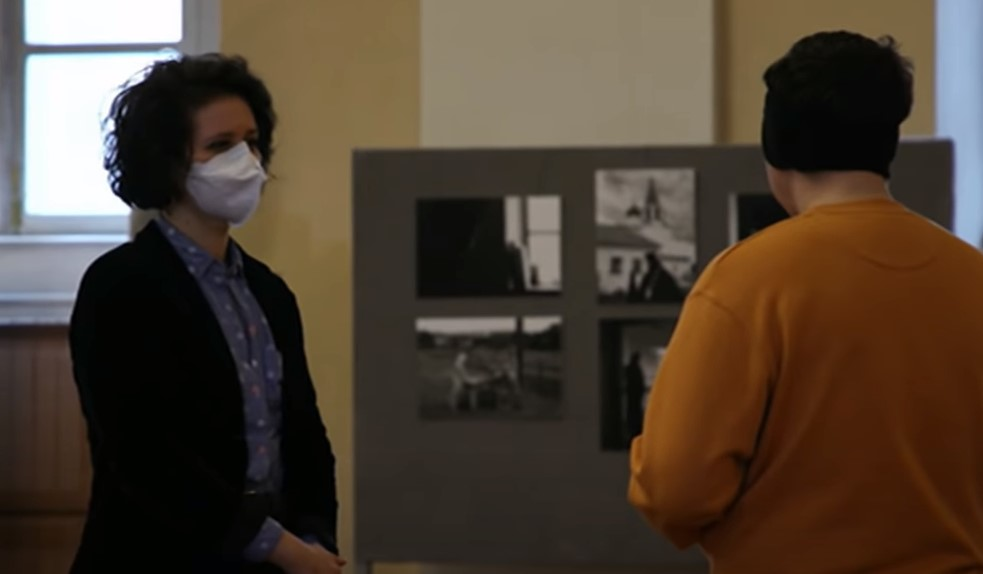face_with_mask: (117, 52, 271, 224)
